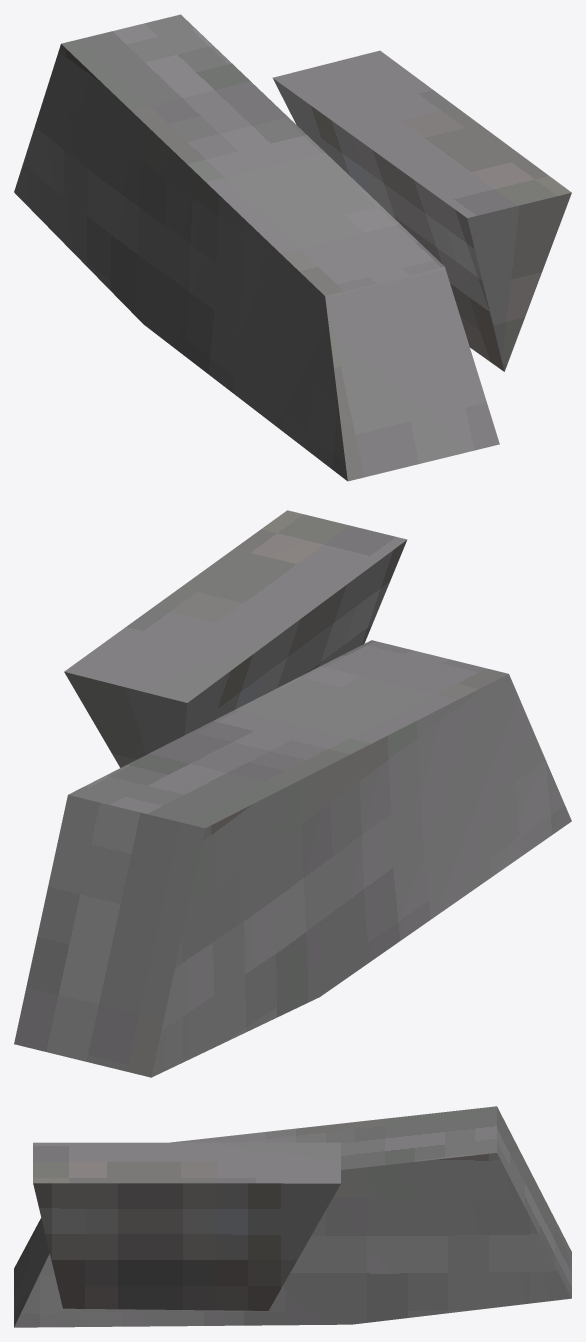
Rendered from LOD3-UVFlip.obj.
3 renders of one model, top to bottom at view 1: azimuth 30°, elevation 25°; view 2: azimuth 150°, elevation 25°; view 3: azimuth 270°, elevation 25°, orthographic. The views are drawn at different scales.
Visible parts, largest first — view 1: Hgn_PulsarCorvette_LOD2; view 2: Hgn_PulsarCorvette_LOD2; view 3: Hgn_PulsarCorvette_LOD2.
Boxes of the visible parts, x1,y1,x2,y2 form: Hgn_PulsarCorvette_LOD2: [14, 14, 571, 481]; Hgn_PulsarCorvette_LOD2: [14, 510, 571, 1077]; Hgn_PulsarCorvette_LOD2: [14, 1106, 571, 1327].
Bounding box in the file's own units: 5.74 × 5.14 × 14.65.
